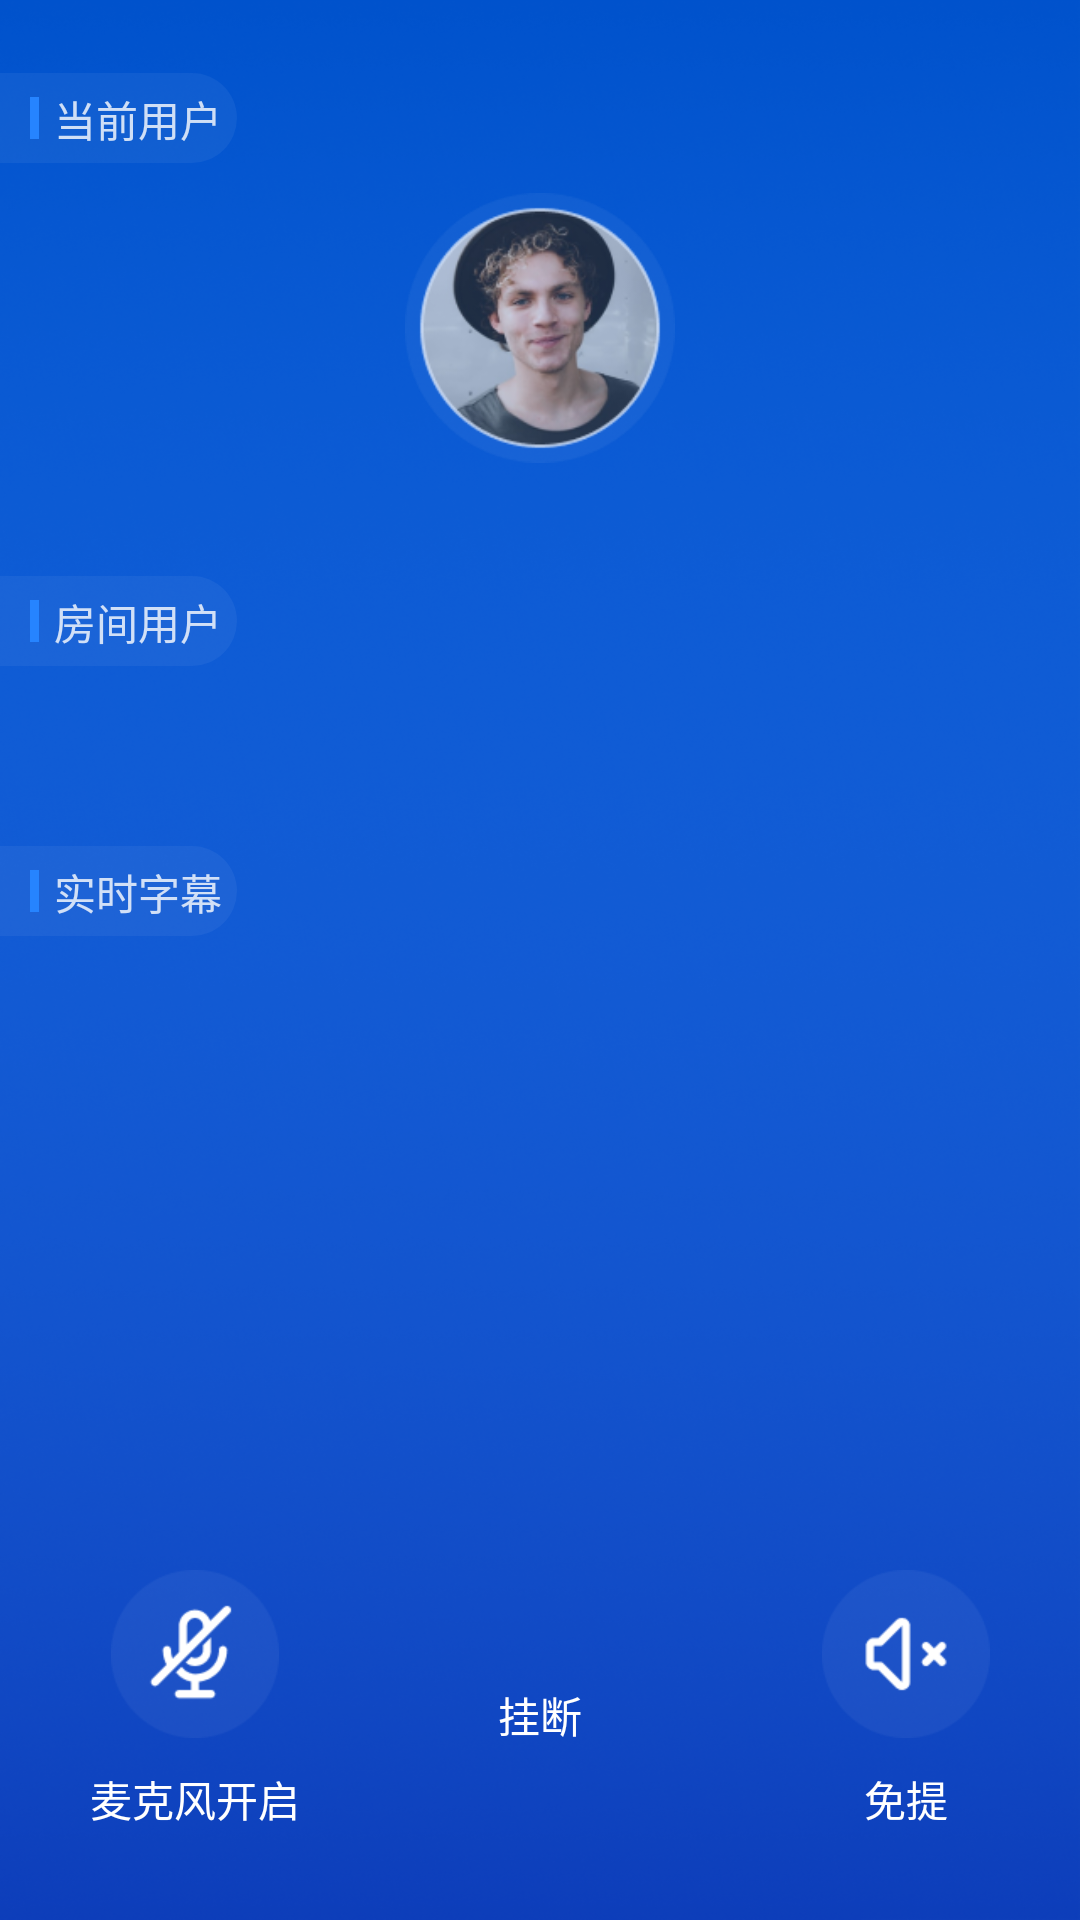

Icons on this 1080×1920 Android screen, each with its box as (x1, y1, x2, y2):
av mute: (111, 1570, 279, 1738)
